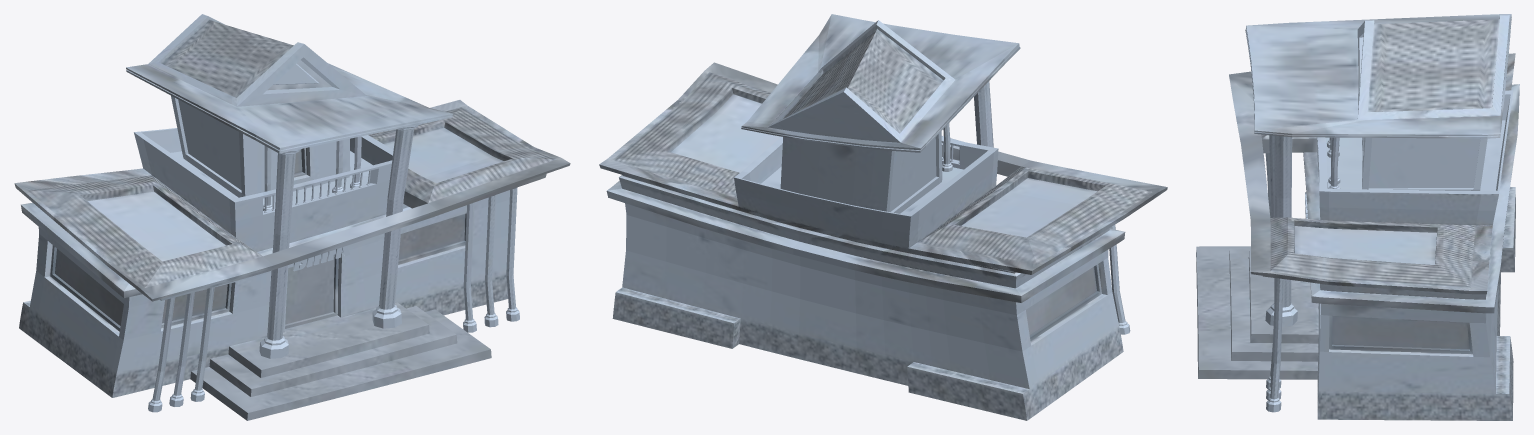
The model's file is BankEmpty.glb.
3 views of the same model, side by side, from view 1: azimuth 30°, elevation 25°; view 2: azimuth 150°, elevation 25°; view 3: azimuth 270°, elevation 25° (orthographic). The views are drawn at different scales.
Visible parts, largest first — view 1: Bank512_Blanche; view 2: Bank512_Blanche; view 3: Bank512_Blanche.
Boxes of the visible parts, left/top/right/bottom form: Bank512_Blanche: left=14, top=14, right=570, bottom=420; Bank512_Blanche: left=599, top=14, right=1167, bottom=420; Bank512_Blanche: left=1196, top=14, right=1519, bottom=420.
Bounding box in the file's own units: 7.62 × 4.82 × 4.64.
1 material, 1 textured.
